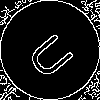U: (25, 25, 84, 82)
